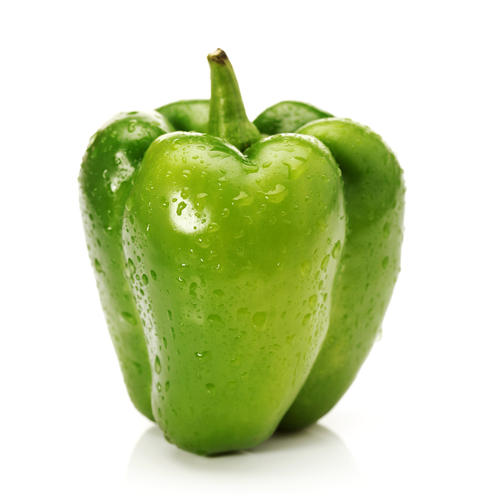fruit_pepper: (72, 44, 409, 461)
